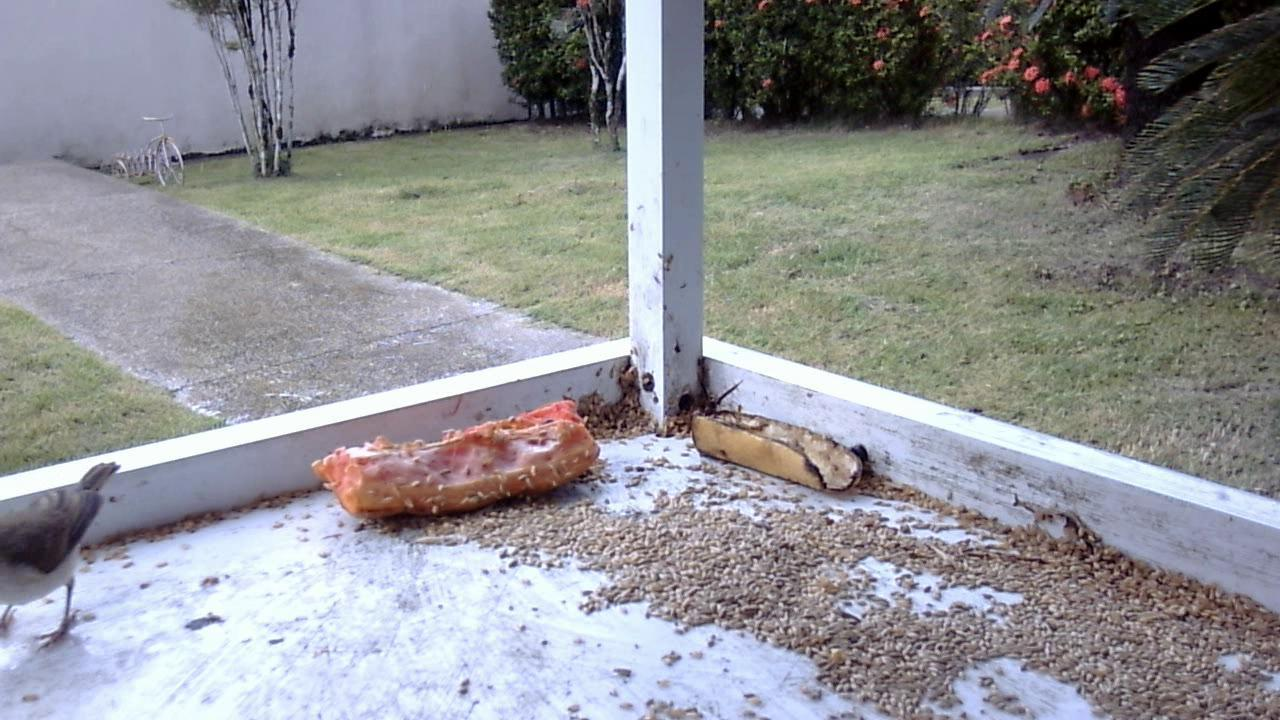canario_do_amazonas: (1, 456, 130, 658)
